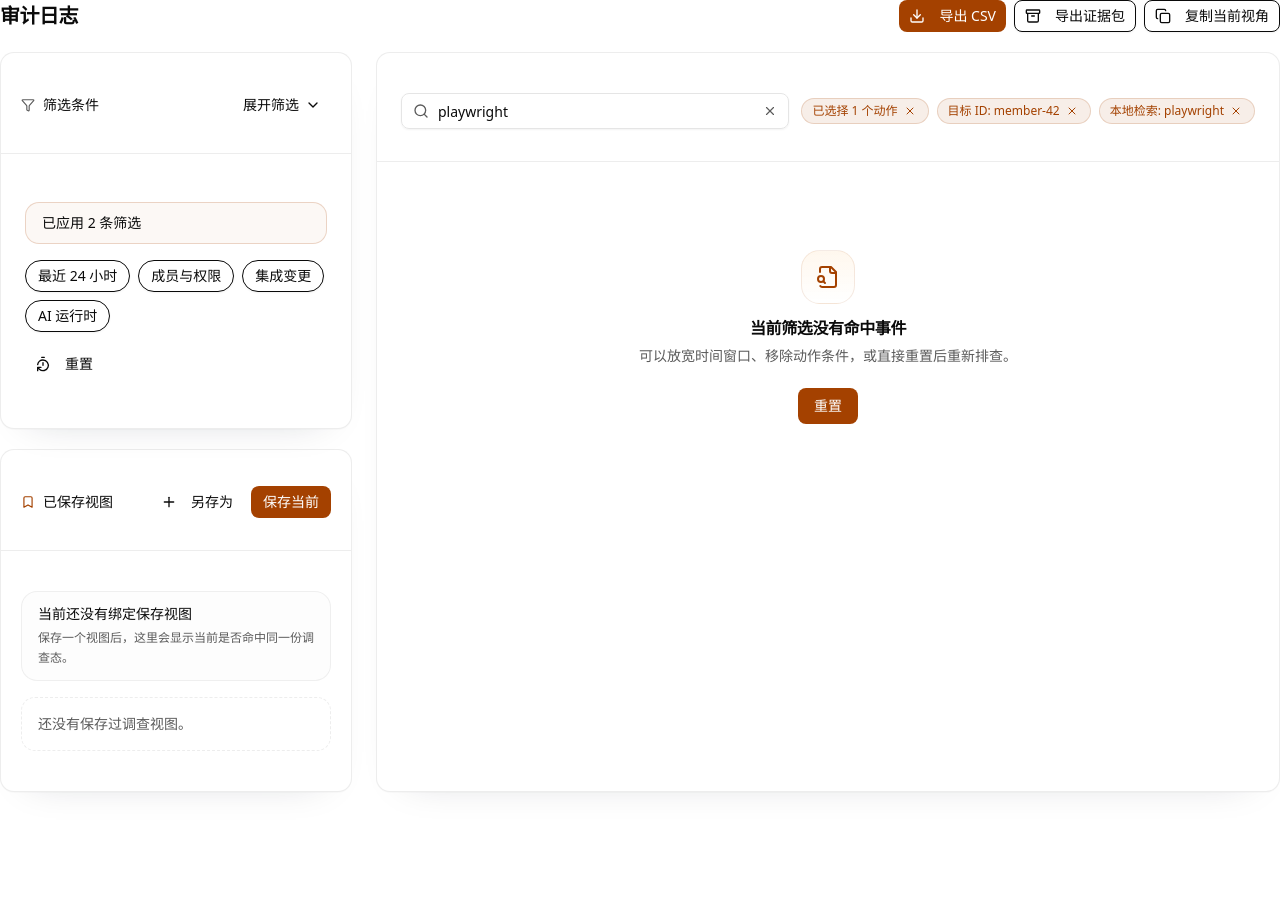
it: AuditLogPage › hydrates the current investigation view from the URL
What coordinates should you click on to do the following:
click the button "展开筛选"
I would click on:
 (282, 105)
Its box is [233,89,331,121].
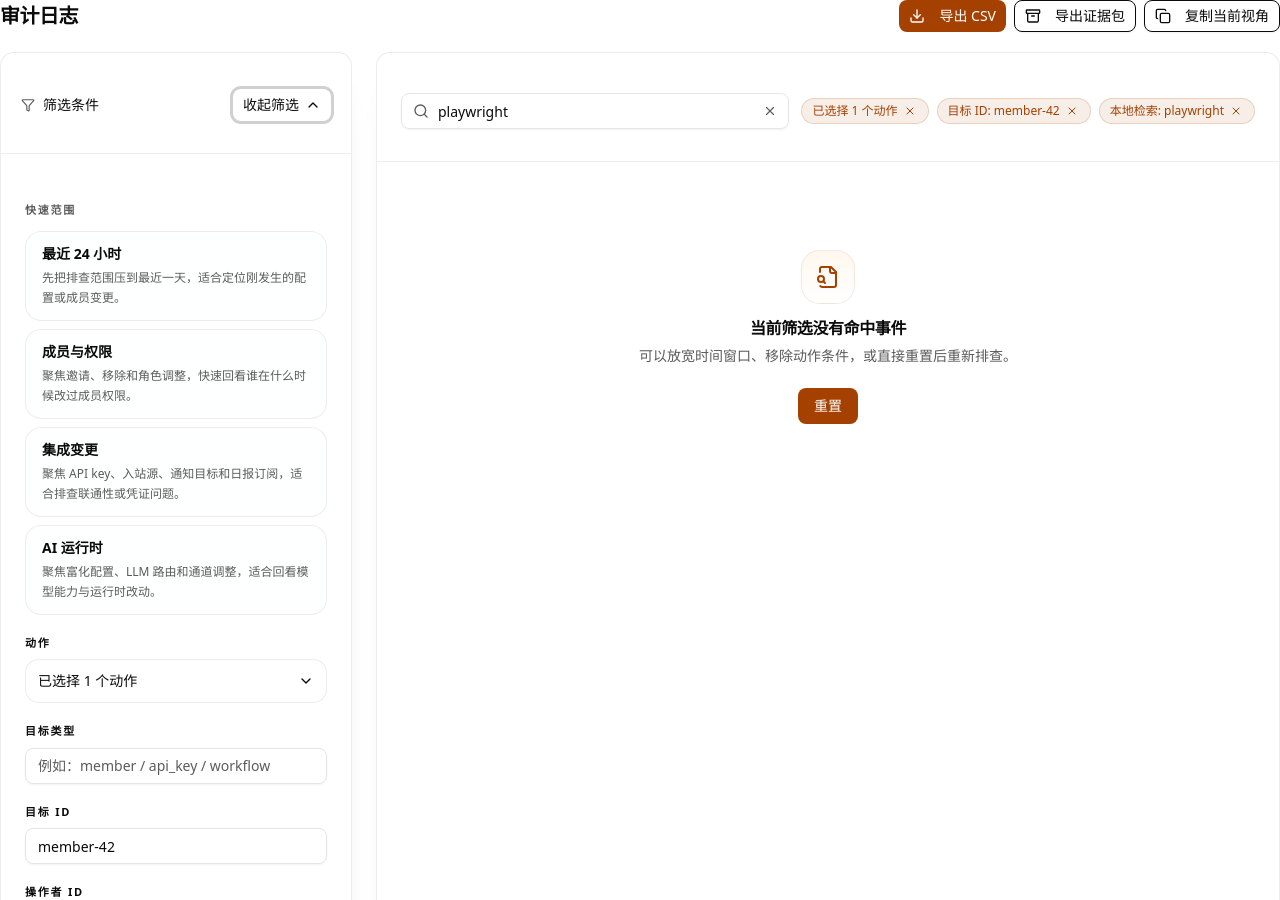
Expected: the field with placeholder "在已加载记录里继续搜索动作、摘要、操作者、目标或快照内容" holds "playwright", [401,93,789,129]
Result: the field labelled "目标 ID" holds "member-42" at [25,828,327,864]
